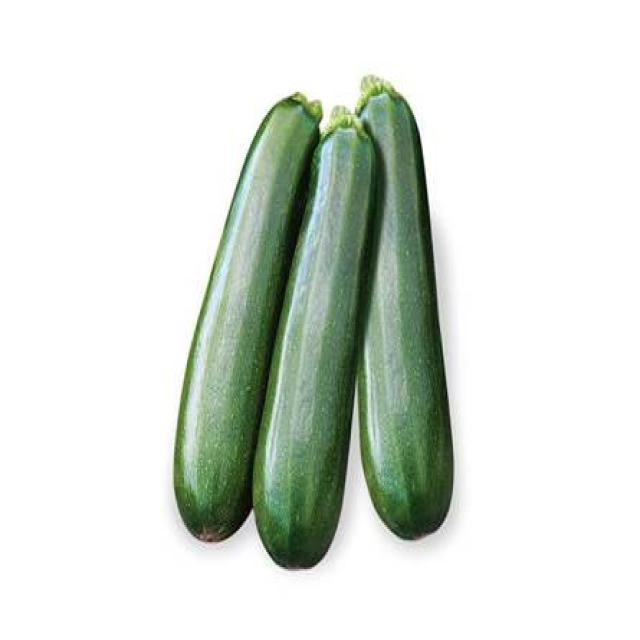Zucchini: (268, 98, 371, 570)
